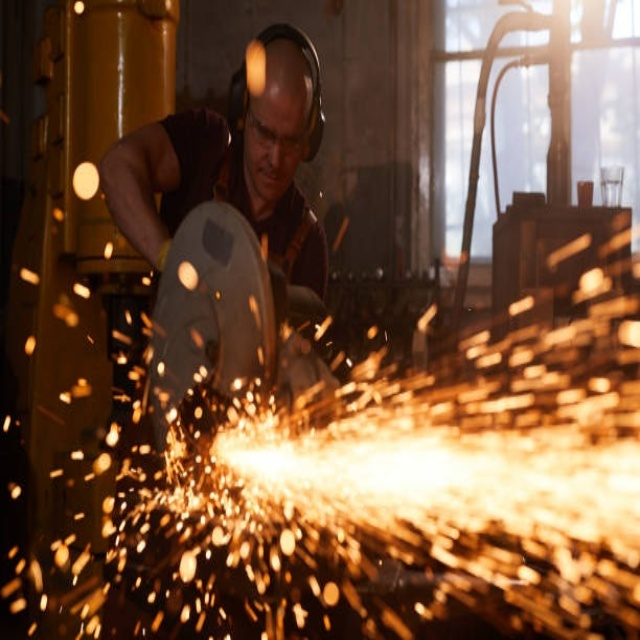Gafas: (241, 94, 316, 158)
Sin_mascara: (250, 160, 289, 205)
